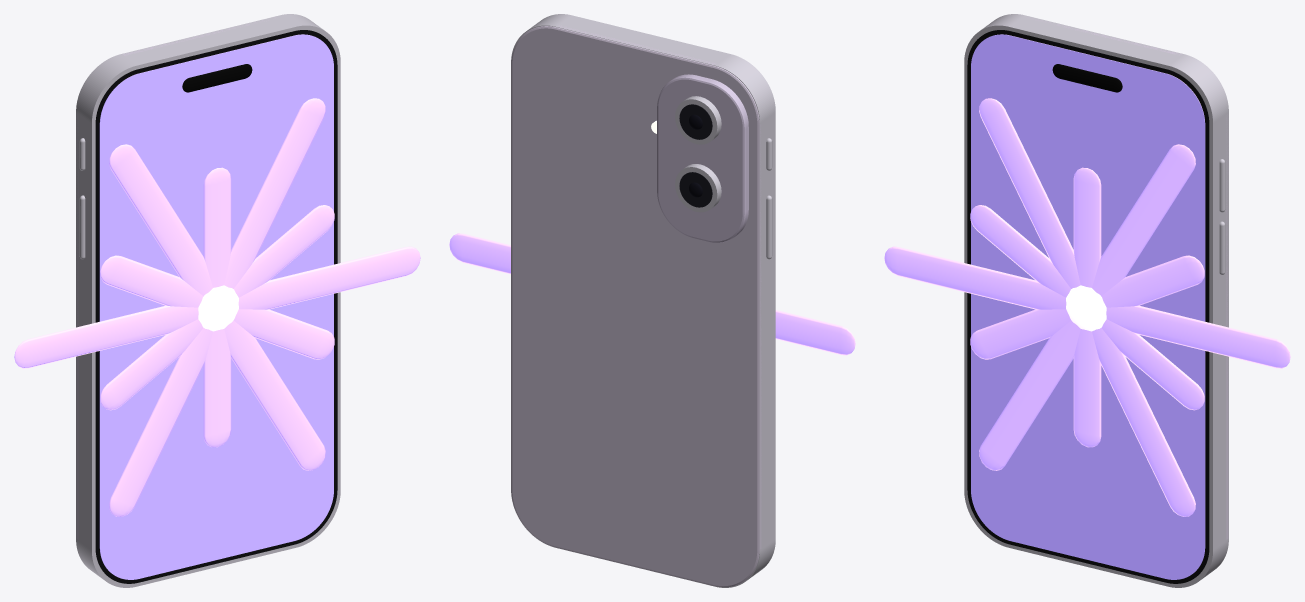
The model's file is iphone-cycle-1.glb.
3 views of the same model, side by side, from view 1: azimuth 30°, elevation 25°; view 2: azimuth 150°, elevation 25°; view 3: azimuth 330°, elevation 25° (orthographic).
Bounding box in the file's own units: 0.816 × 1.01 × 0.1046.
